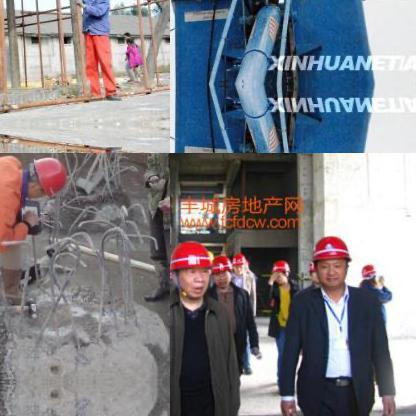Helmet: (170, 235, 213, 303), (308, 233, 352, 289), (25, 154, 71, 200), (268, 258, 296, 286), (228, 249, 252, 278), (210, 252, 230, 284), (356, 263, 380, 287)
